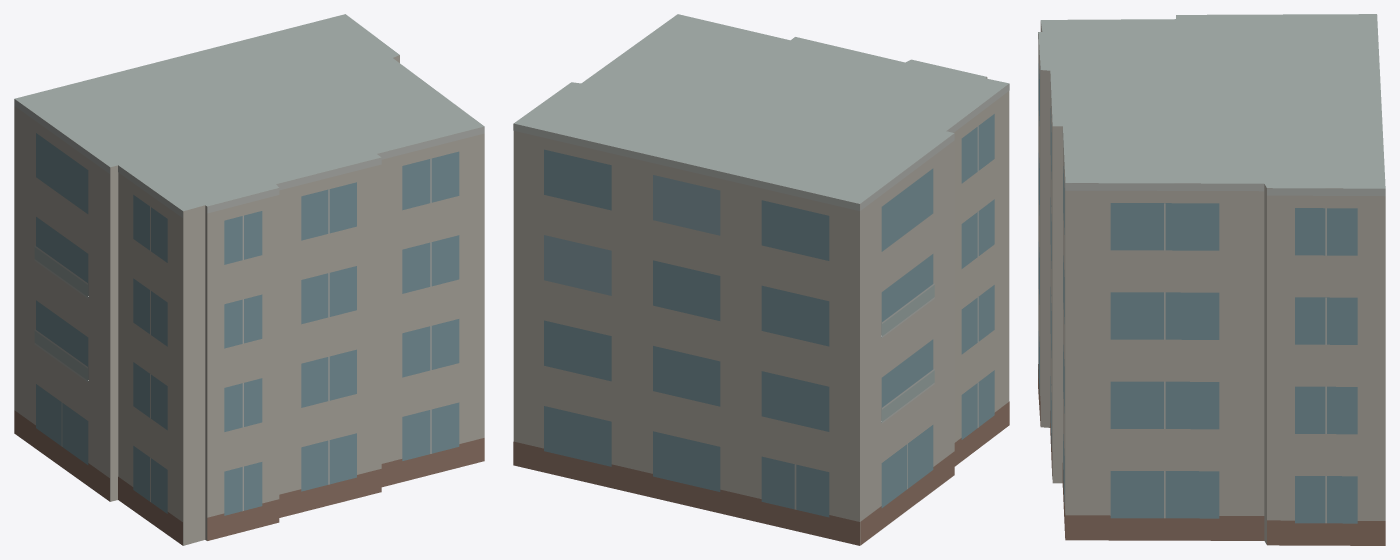
File: survey-upis-32518143.glb
3 renders of one model, left to right at view 1: azimuth 30°, elevation 25°; view 2: azimuth 150°, elevation 25°; view 3: azimuth 270°, elevation 25°, orthographic. The views are drawn at different scales.
Parts seen in each view (by area): view 1: survey-upis-32518143.tmp; view 2: survey-upis-32518143.tmp; view 3: survey-upis-32518143.tmp.
Boxes of the visible parts, x1=… form: survey-upis-32518143.tmp: x1=14, y1=14, x2=484, y2=545; survey-upis-32518143.tmp: x1=513, y1=14, x2=1009, y2=545; survey-upis-32518143.tmp: x1=1038, y1=14, x2=1385, y2=545.
Bounding box in the file's own units: 12.19 × 11.6 × 10.23.
